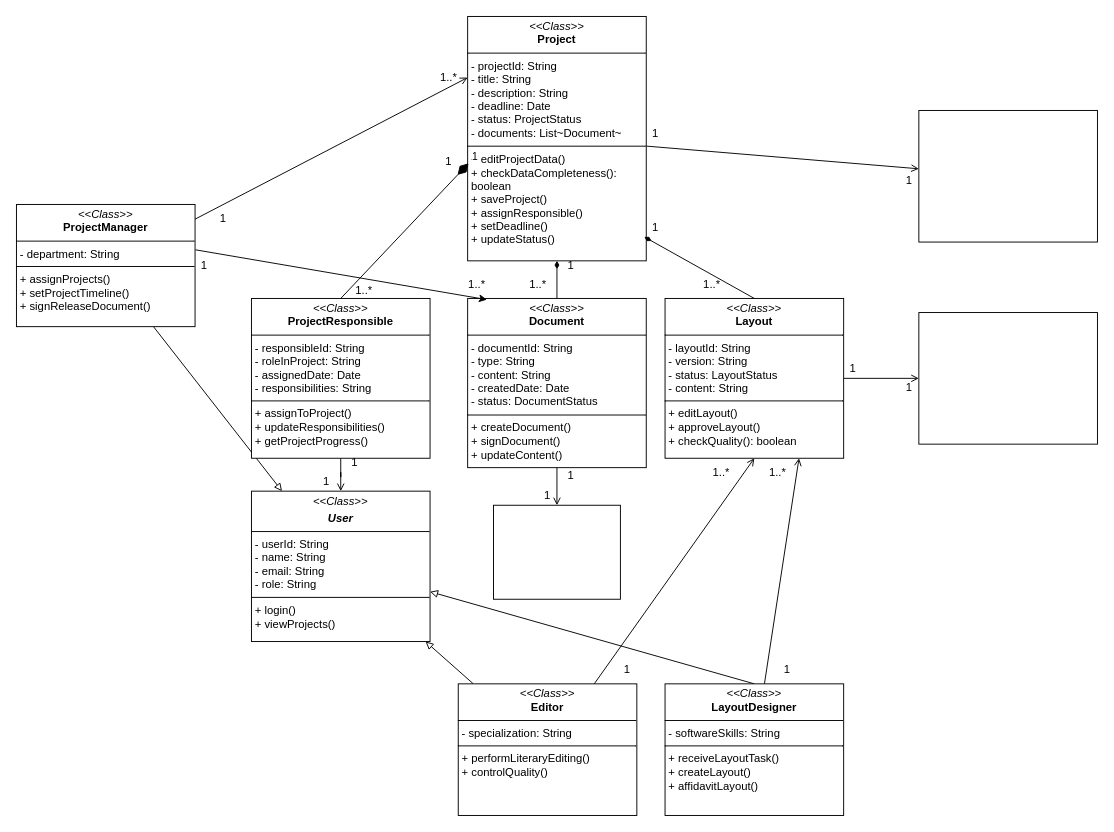
This 1114x832 diagram has some shape labels left out. Here are the shapes that lost their labels. From the top down, the box of each, then its label:
(918, 110, 1097, 242): <<enumeration>> ProjectStatus DRAFT IN_PROGRESS EDITING LAYOUT READY PUBLISHED
(918, 312, 1097, 444): <<enumeration>> LayoutStatus DRAFT IN_EDITING READY APPROVED
(493, 504, 620, 599): <<enumeration>> DocumentStatus DRAFT SIGNED ARCHIVED
